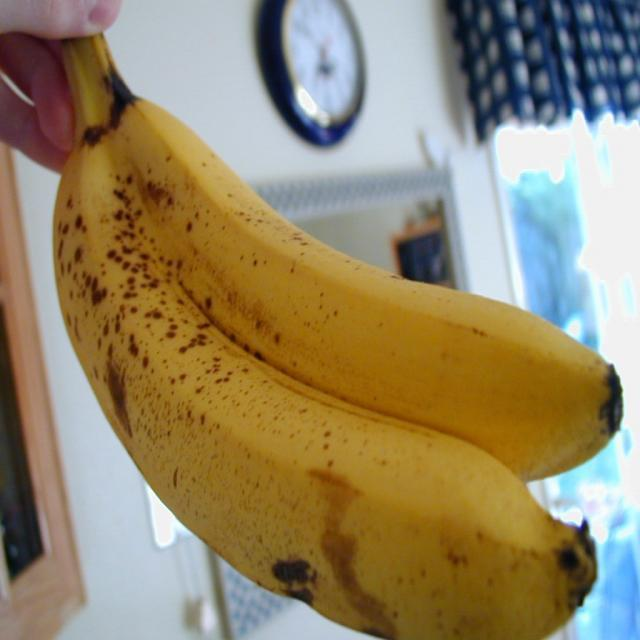Banana: (50, 30, 626, 640)
